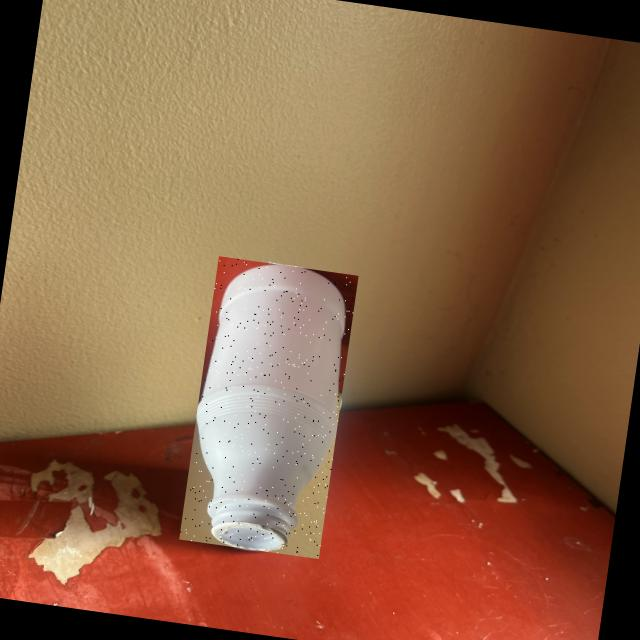HDPE_Bottle: (196, 264, 344, 551)
